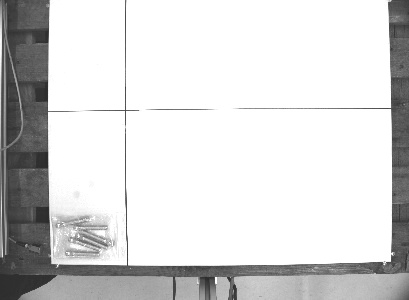t2: (48, 209, 130, 269)
